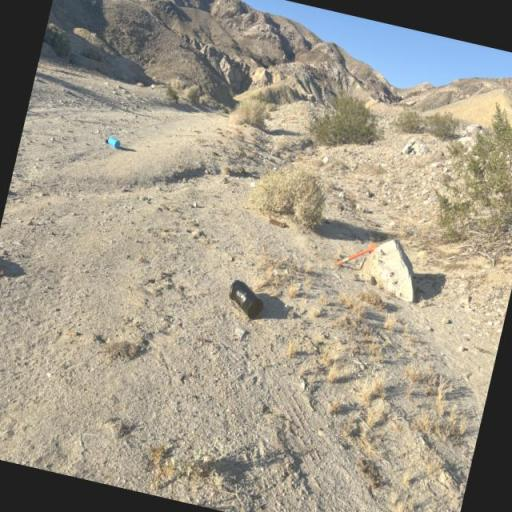bottle: (222, 278, 269, 322), (100, 128, 128, 154)
mallet: (329, 226, 383, 286)
